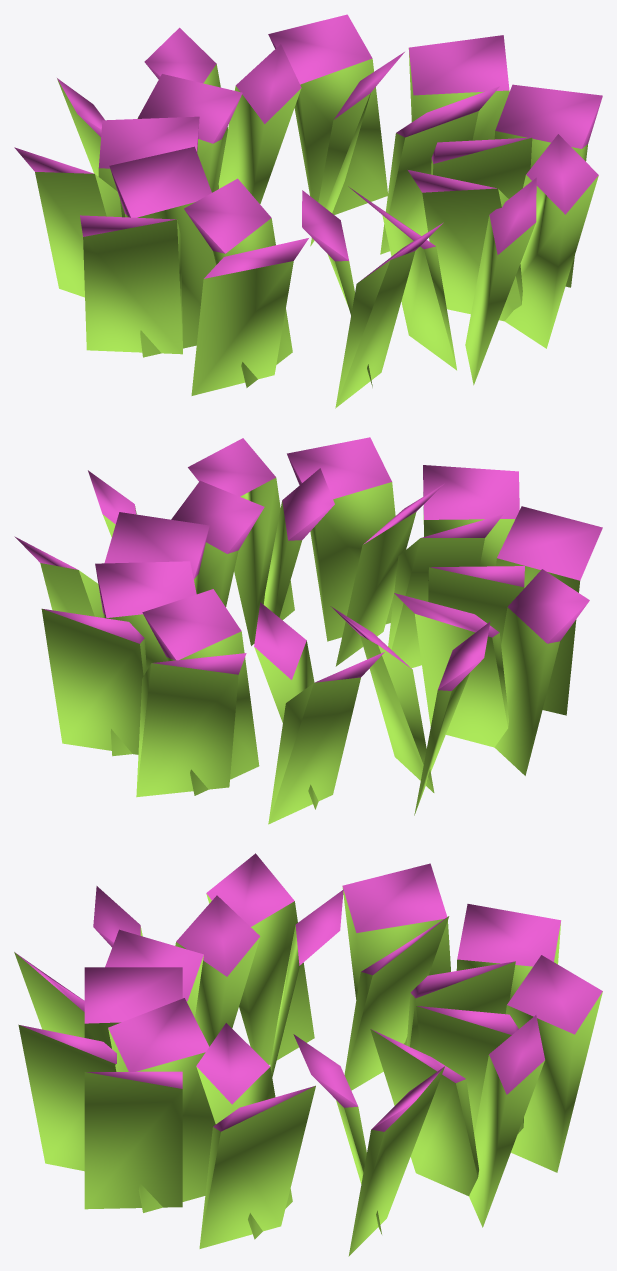
Rendered from Plant5.fbx.
3 renders of one model, top to bottom at view 1: azimuth 30°, elevation 25°; view 2: azimuth 150°, elevation 25°; view 3: azimuth 270°, elevation 25°, orthographic. The views are drawn at different scales.
Parts seen in each view (by area): view 1: Plant_5; view 2: Plant_5; view 3: Plant_5.
Boxes of the visible parts, x1,y1,x2,y2 form: Plant_5: (14, 14, 602, 408); Plant_5: (14, 437, 602, 824); Plant_5: (14, 853, 602, 1256).
Bounding box in the file's own units: 107 × 32.64 × 104.
